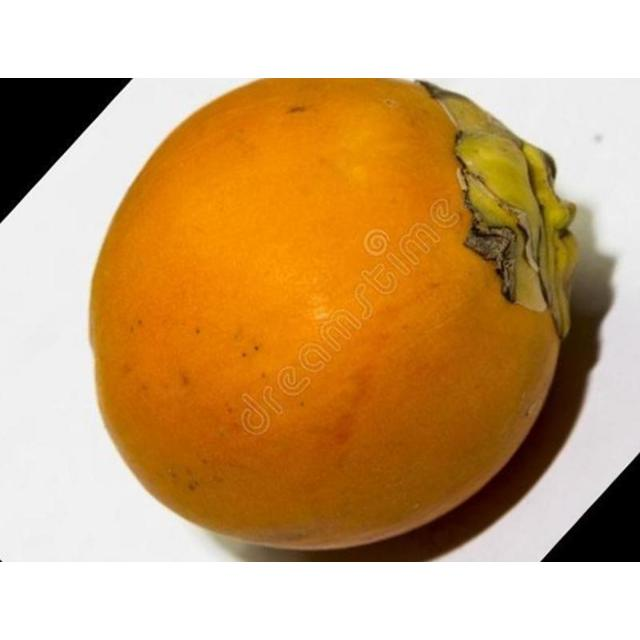good: (86, 78, 581, 554)
